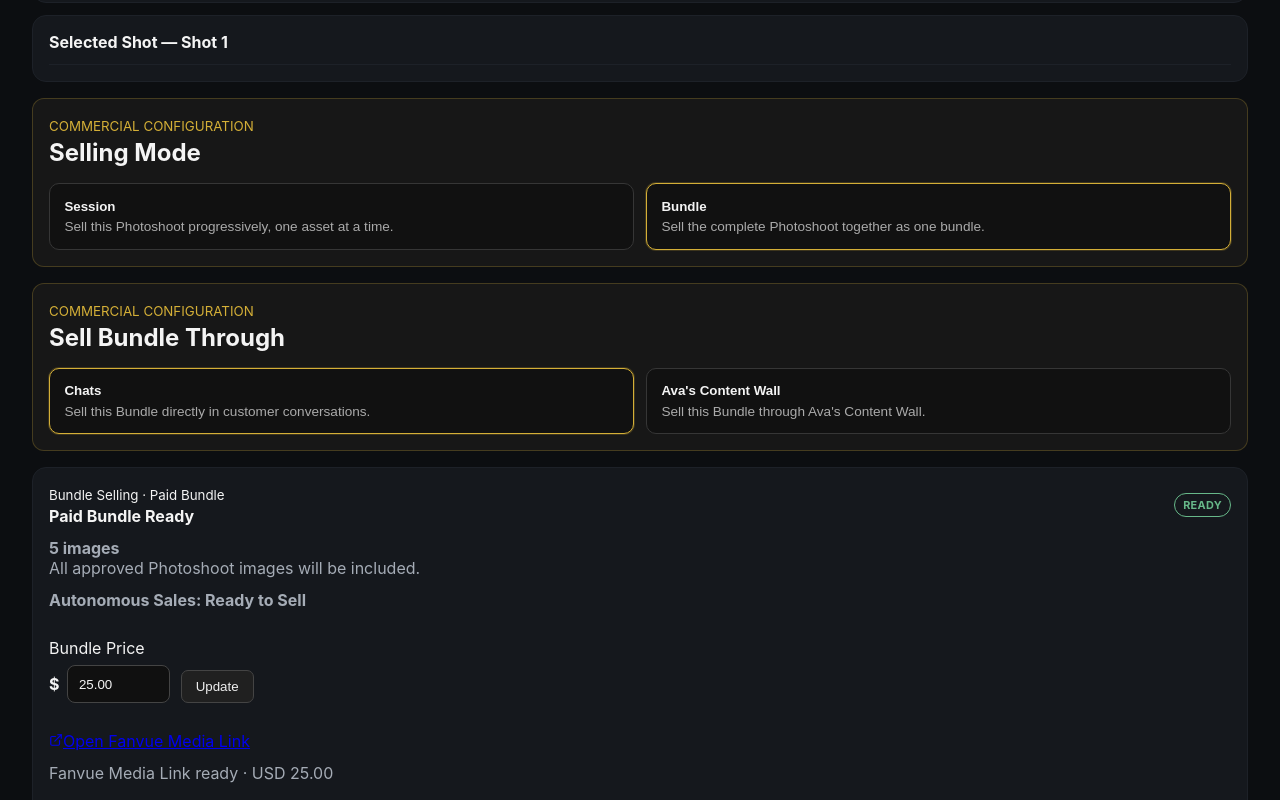
it: Photoshoot selling mode › shows the exclusive Bundle channel, persists Content Wall, and restores Chat UI
This screenshot has width=1280, height=800.
(page scrolled)
Check: the heading "Sell Bundle Through" is shown, box [49,323,285,352]
Check: the text "Autonomous Sales: Ready to Sell" is shown, box [49,590,306,610]
Click the button "Ava's Content Wall".
click(721, 391)  # box [646,368,1231,434]
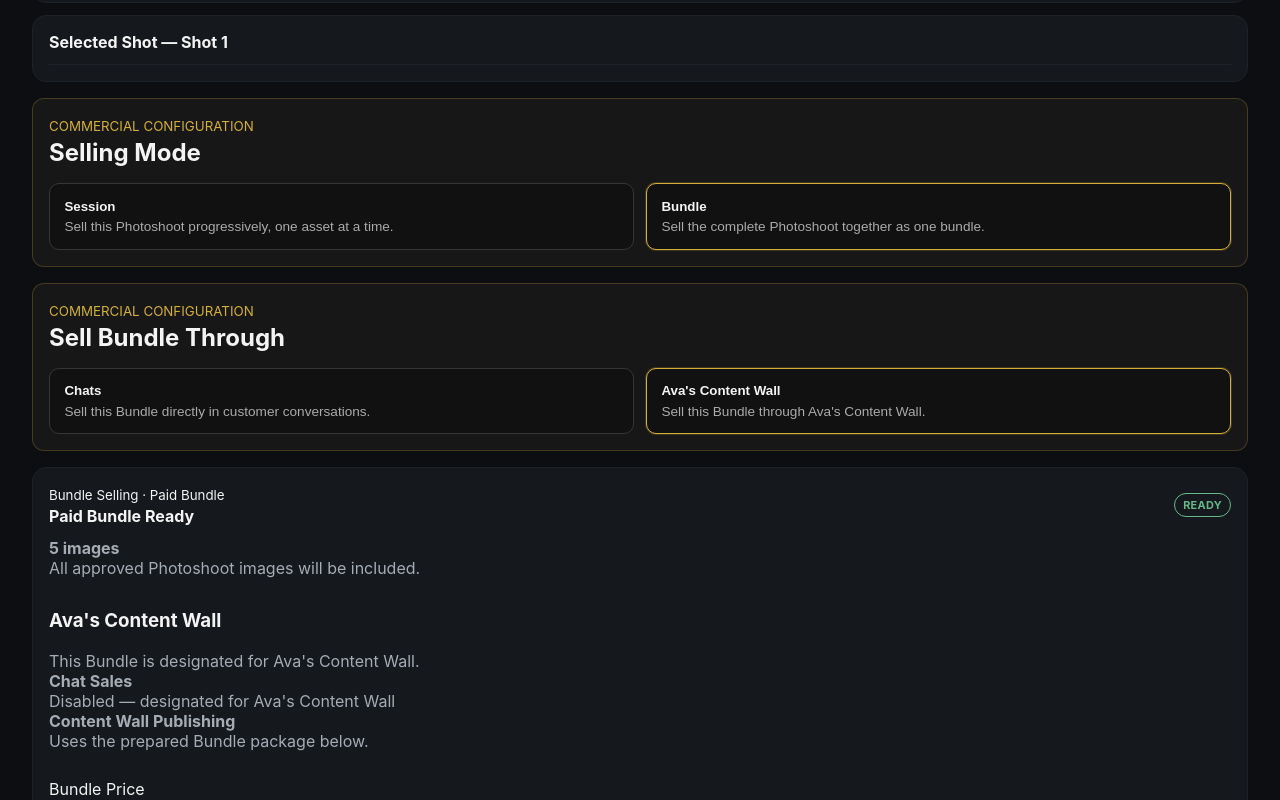
Check: the text "This Bundle is designated for Ava's Content Wall." is shown, box [49,651,420,671]
Check: the text "Disabled — designated for Ava's Content Wall" is shown, box [49,691,395,711]
Check: the text "Autonomous Sales: Ready to Sell" is gone
Click the button "Chats Sell this Bundle directly in customer conversations.".
click(342, 401)  # box [49,368,634,434]
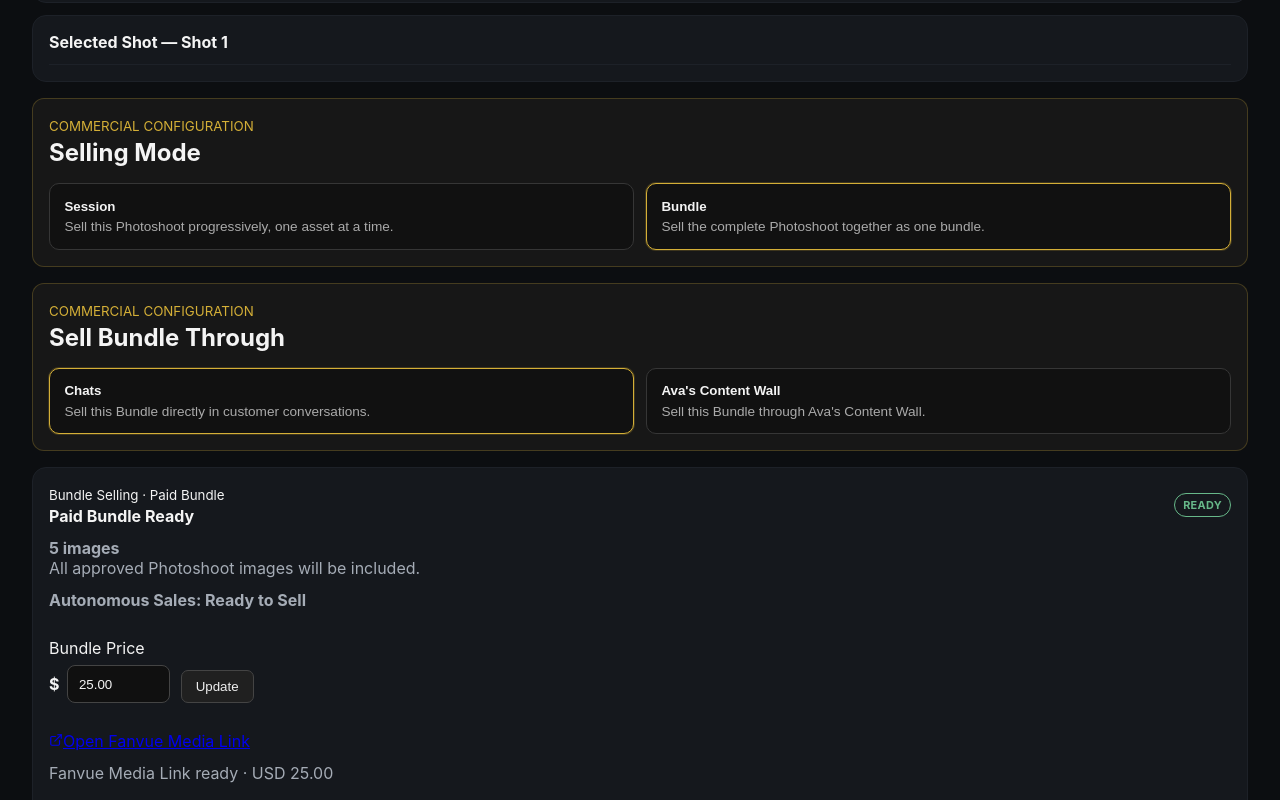
Check: the text "Autonomous Sales: Ready to Sell" is shown, box [49,590,306,610]
